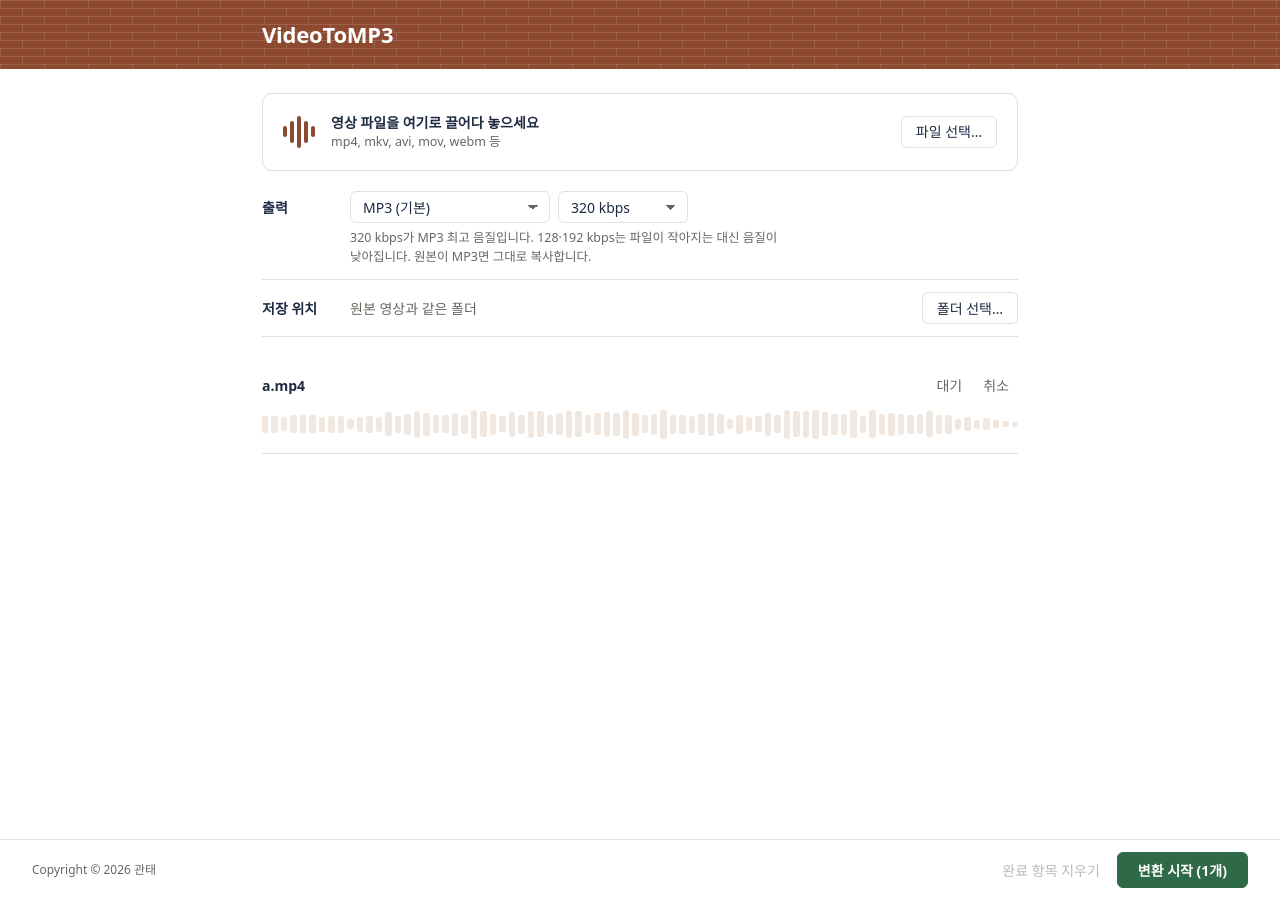
Test: 변환 › 진행 보고 {"percent":42.7,"speed":1.53}
This screenshot has width=1280, height=900.
Click the button "변환 시작 (1개)": {"x": 1182, "y": 870} left=1117, top=852, right=1248, bottom=888
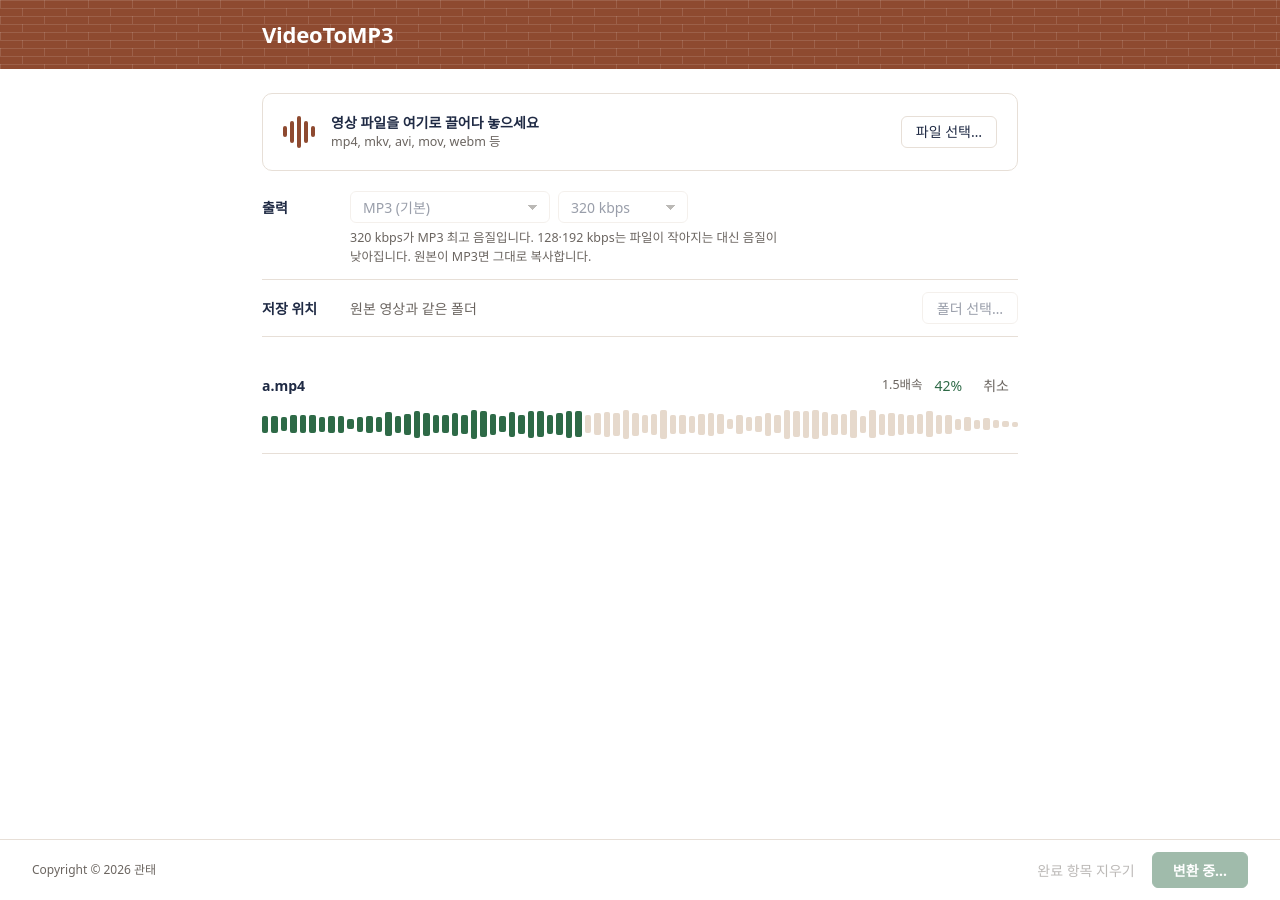
Expected: the text with class "job-speed" reads "1.5배속", left=882, top=376, right=923, bottom=393
